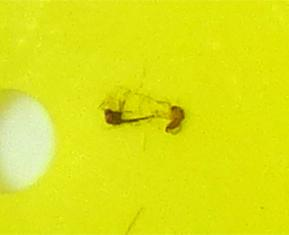Nematocera: (100, 100, 158, 128), (164, 104, 189, 135)
